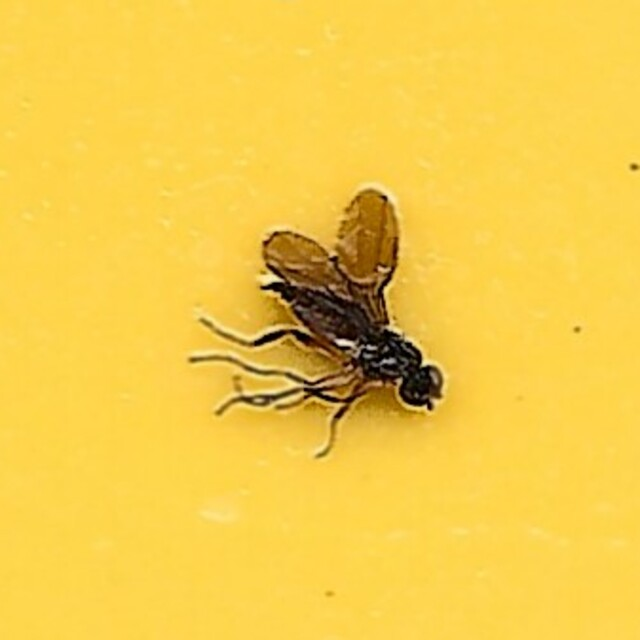Brachycera: (190, 188, 450, 452)
